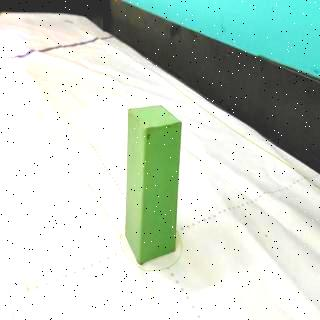greenbox: (126, 104, 182, 268)
